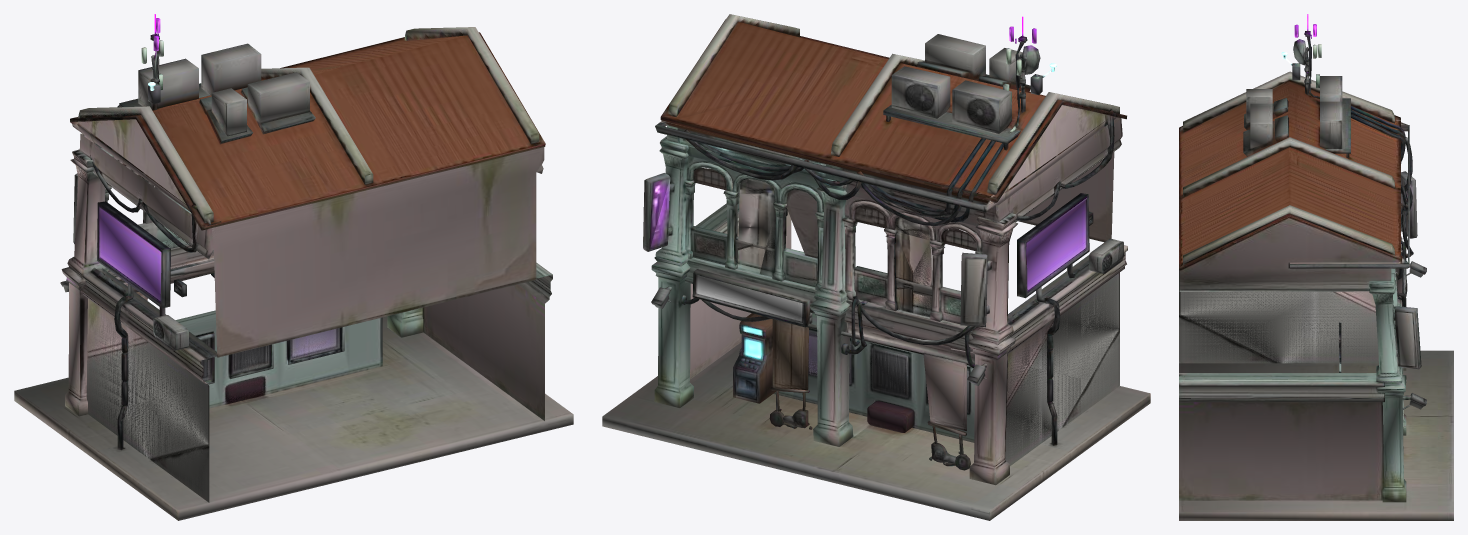
Rendered from peranakan_shophouse.glb.
The picture shows the model from 3 angles, left to right: view 1: azimuth 30°, elevation 25°; view 2: azimuth 150°, elevation 25°; view 3: azimuth 270°, elevation 25°; orthographic projection. The views are drawn at different scales.
Parts seen in each view (by area): view 1: Body; view 2: Body, Glow; view 3: Body.
Part boxes in pixels (x1,y1,x2,y2): Body: (14, 18, 573, 520); Body: (602, 14, 1150, 520); Glow: (649, 16, 1056, 361); Body: (1179, 24, 1453, 520).
Size of the model in its own units: 12 by 12.7 by 8.62.
Materials: 2 (2 with a texture image).
